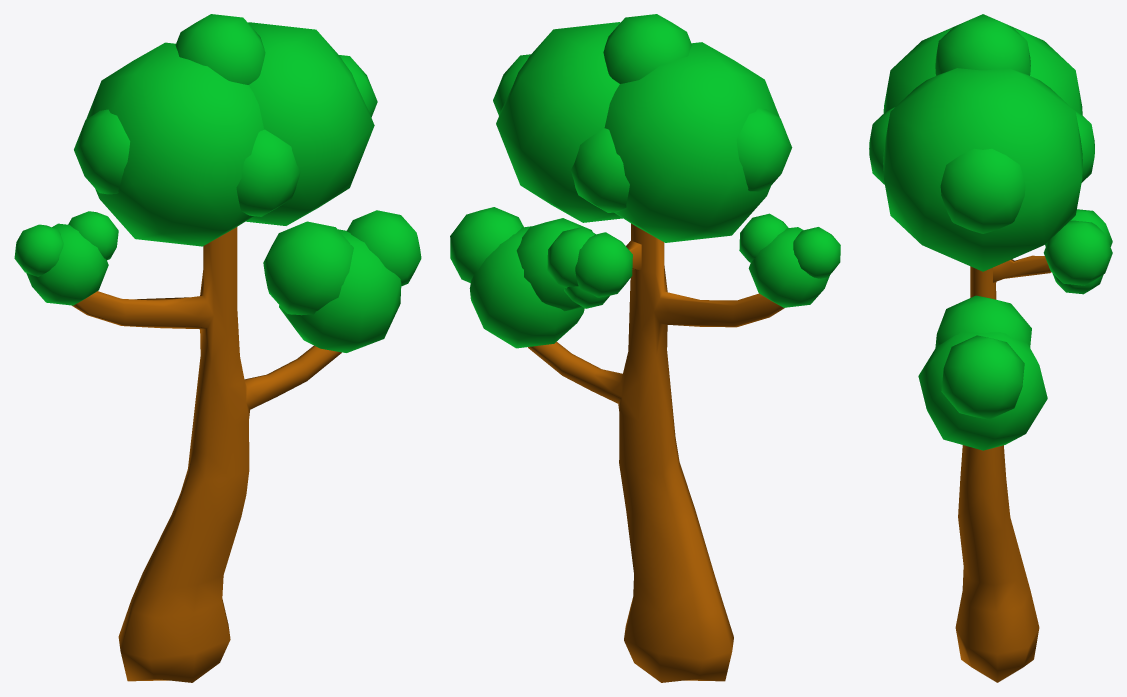
File: Arbol-3.fbx
3 views of the same model, side by side, from view 1: azimuth 30°, elevation 25°; view 2: azimuth 150°, elevation 25°; view 3: azimuth 270°, elevation 25° (orthographic). The views are drawn at different scales.
Visible parts, largest first — view 1: pSolid27; view 2: pSolid27; view 3: pSolid27.
Part boxes in pixels (<box>): pSolid27: <box>14,14,421,682</box>; pSolid27: <box>450,14,840,682</box>; pSolid27: <box>869,14,1112,682</box>.
Size of the model in its own units: 7.22 by 11.54 by 3.82.
